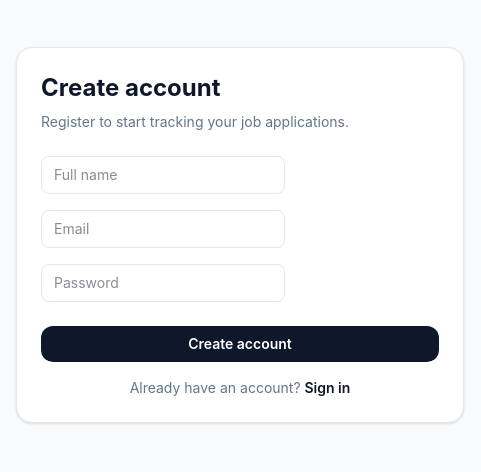
Test case: RegisterPage › shows error message when registration fails
The image size is (481, 472).
In the field with placeholder "Full name": (163, 175) [41, 156, 285, 194], type "Test User"
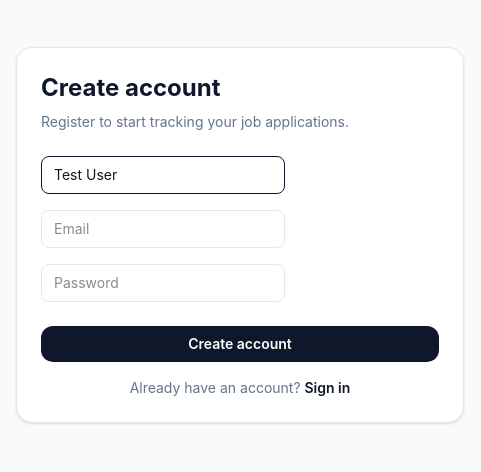
In the field with placeholder "Email": (163, 229) [41, 210, 285, 248], type "test@example.com"
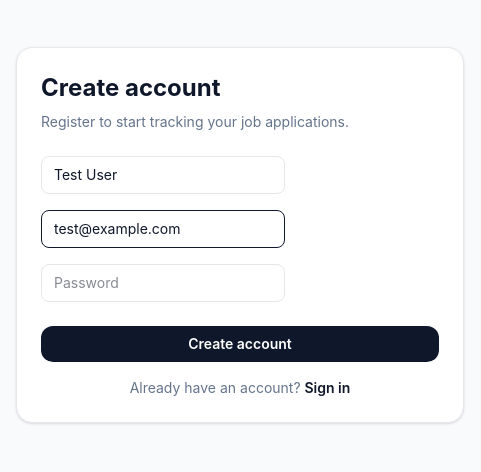
In the password field with placeholder "Password": (163, 283) [41, 264, 285, 302], type "password123"
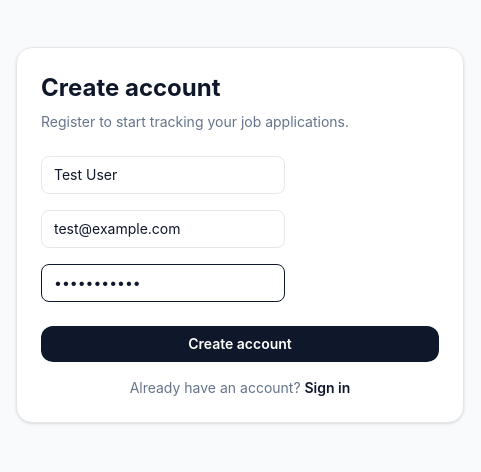
Click the button "Create account": (240, 344) [41, 326, 439, 362]
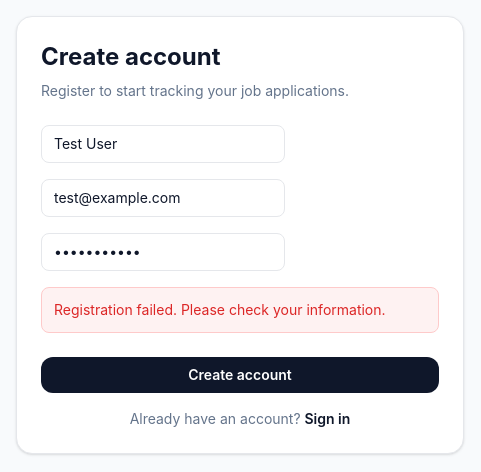
Check: the text "Registration failed. Please check your information." is shown, box [41, 287, 439, 333]
